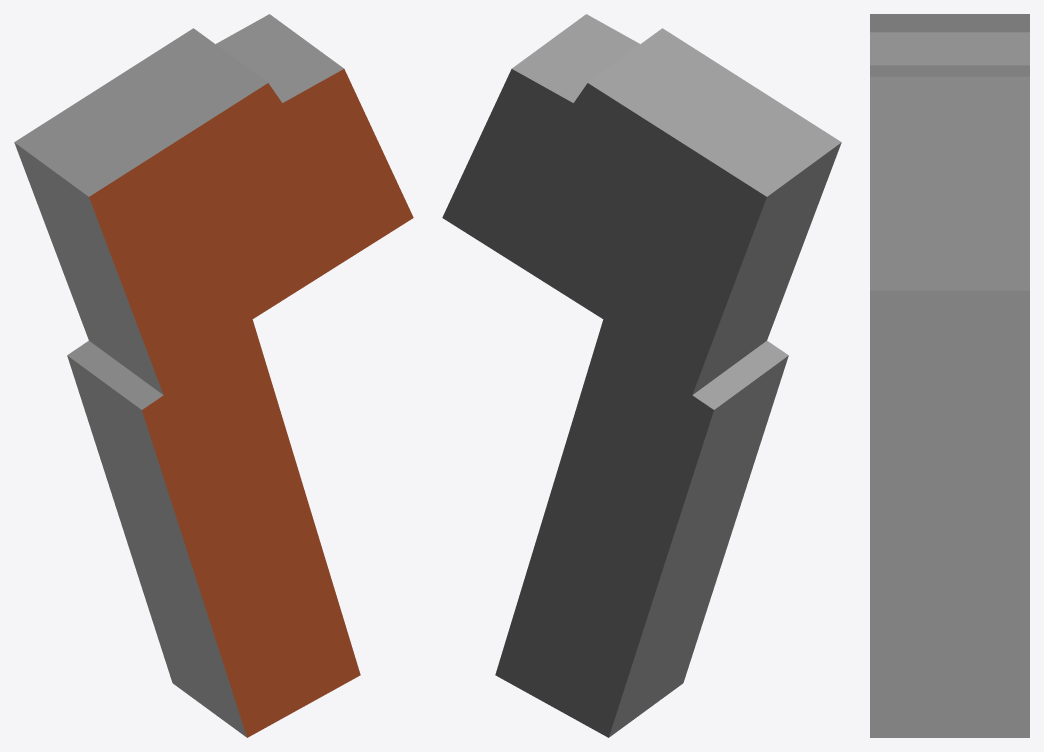
Rendered from construction_4545_assumed_A_Casa_h6m.obj.
The picture shows the model from 3 angles, left to right: view 1: azimuth 30°, elevation 25°; view 2: azimuth 150°, elevation 25°; view 3: azimuth 270°, elevation 25°; orthographic projection. The views are drawn at different scales.
Visible parts, largest first — view 1: construction_4545_assumed_A_Casa; view 2: construction_4545_assumed_A_Casa; view 3: construction_4545_assumed_A_Casa.
Boxes of the visible parts, <box> form: construction_4545_assumed_A_Casa: <box>14,14,413,737</box>; construction_4545_assumed_A_Casa: <box>442,14,841,737</box>; construction_4545_assumed_A_Casa: <box>870,14,1029,737</box>.
Size of the model in its own units: 15.05 by 28.78 by 6.
